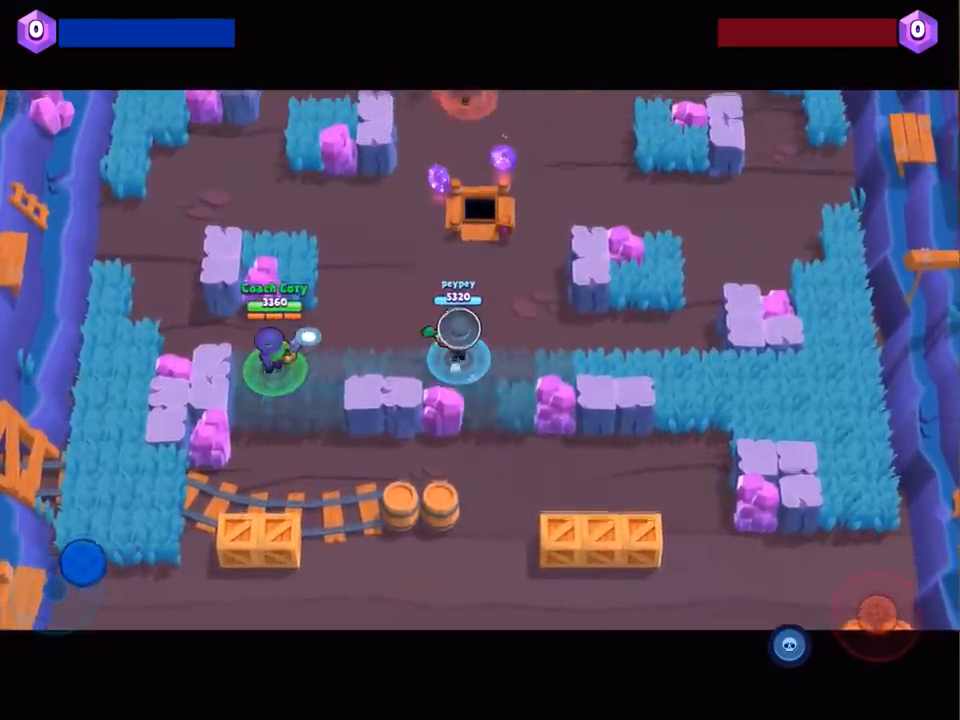move_stick: (54, 533, 116, 592)
